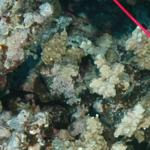alive: (13, 3, 148, 145)
